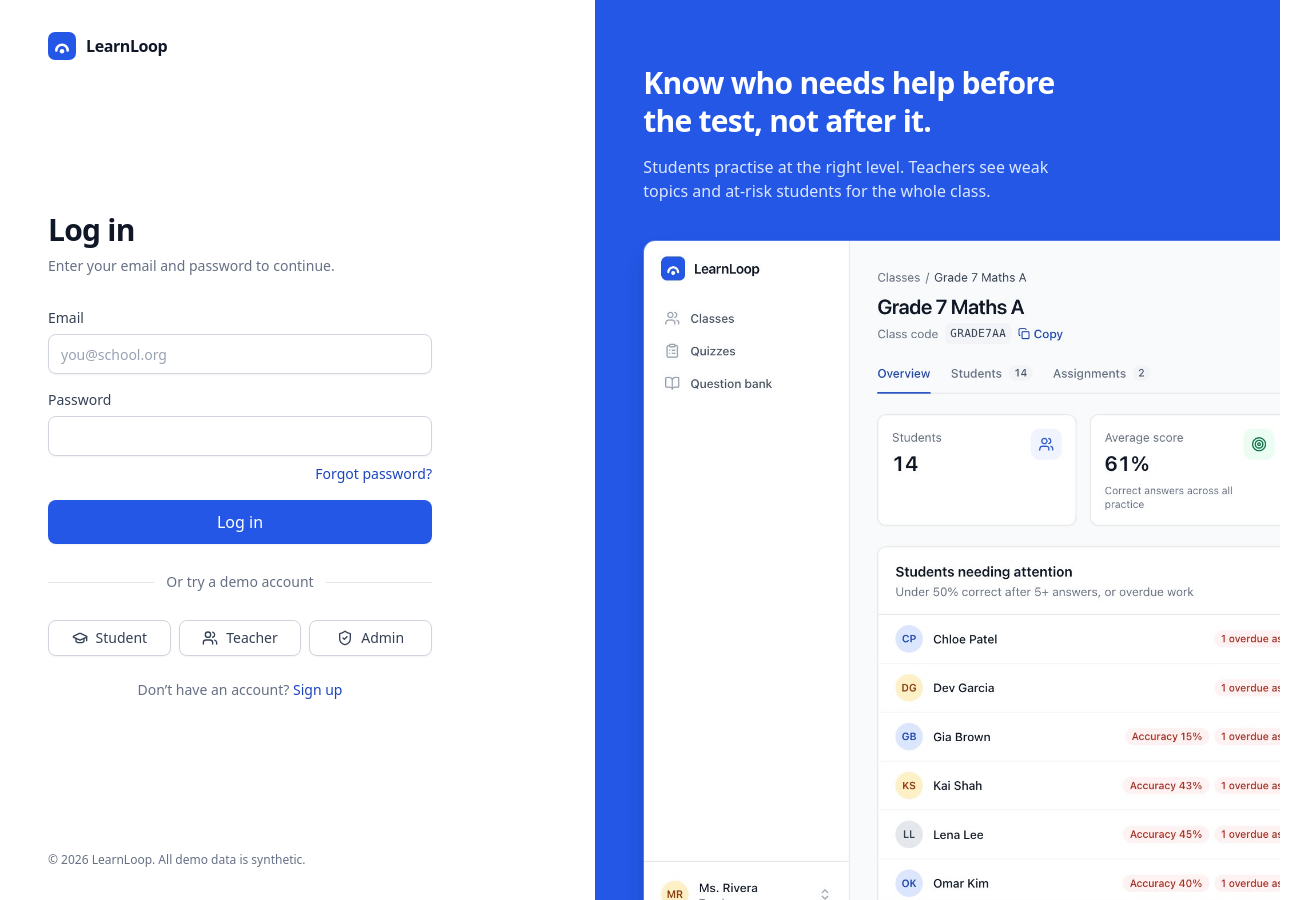
it: LoginPage › shows the server error message on bad credentials
Type "kid@test.dev" into the field labelled "Email" at (240,354), box [48, 334, 432, 374]
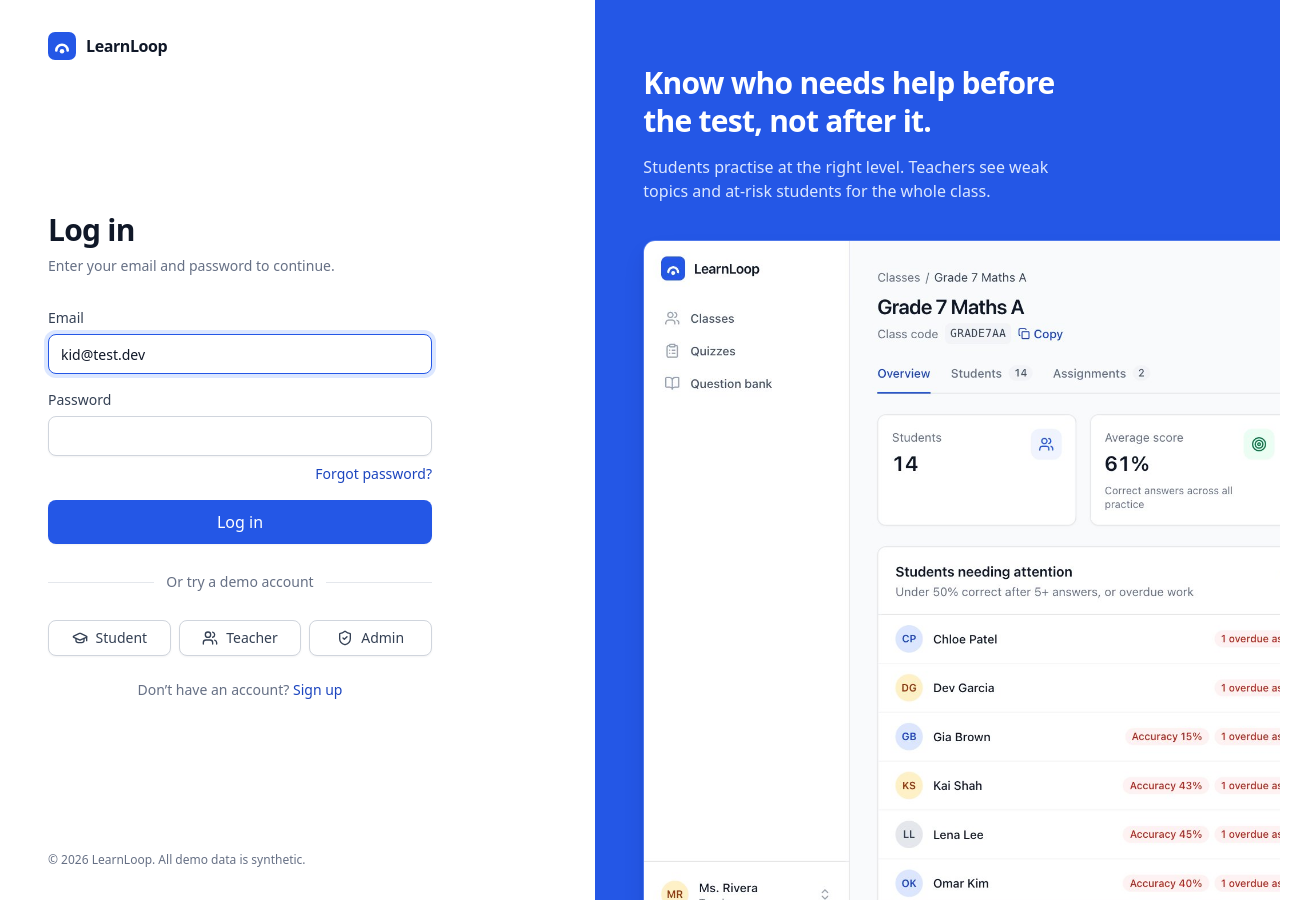
Type "wrong-password" into the password field labelled "Password" at (240,436), box [48, 416, 432, 456]
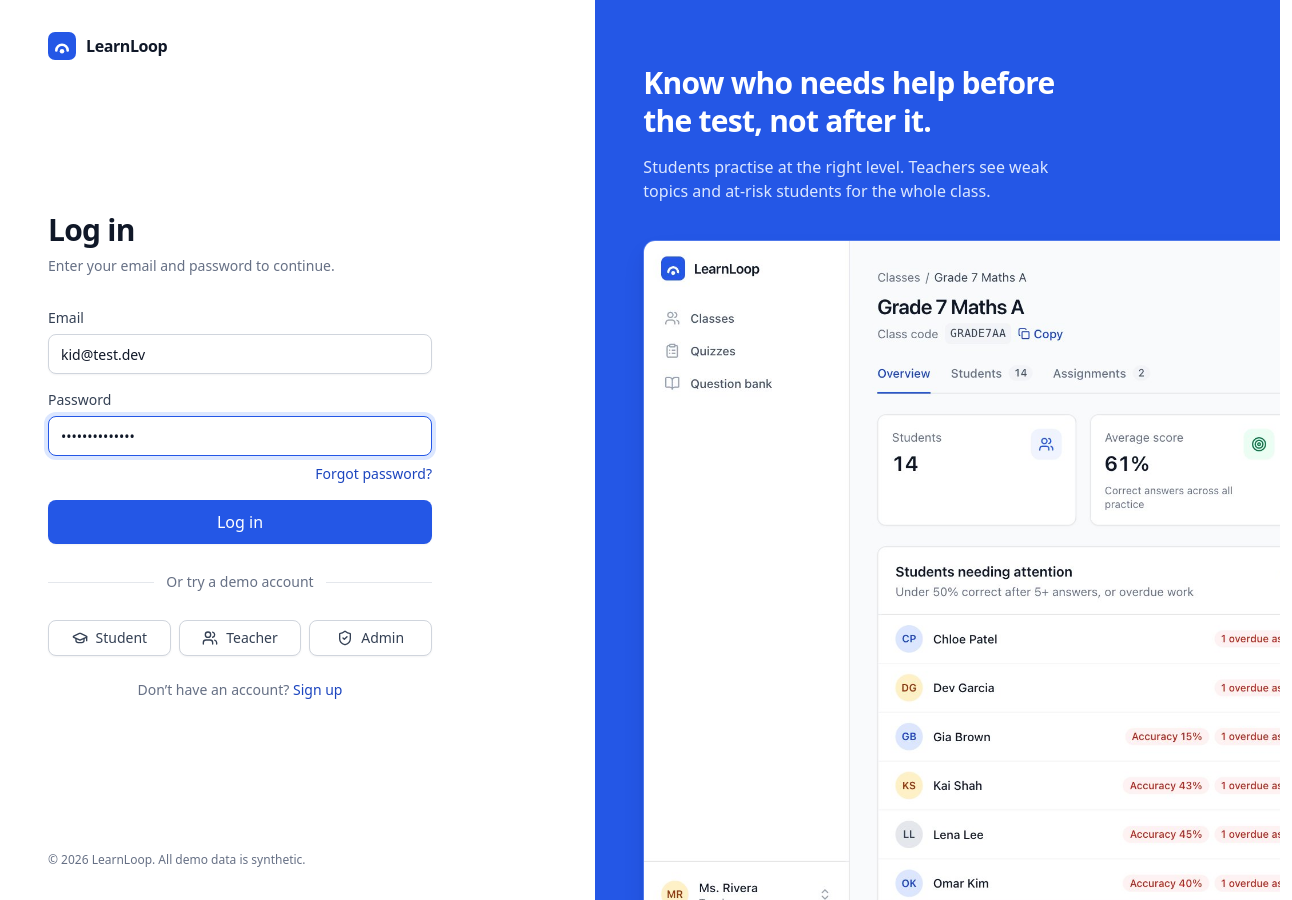
Click the button "Log in" at (240,522), box [48, 500, 432, 544]
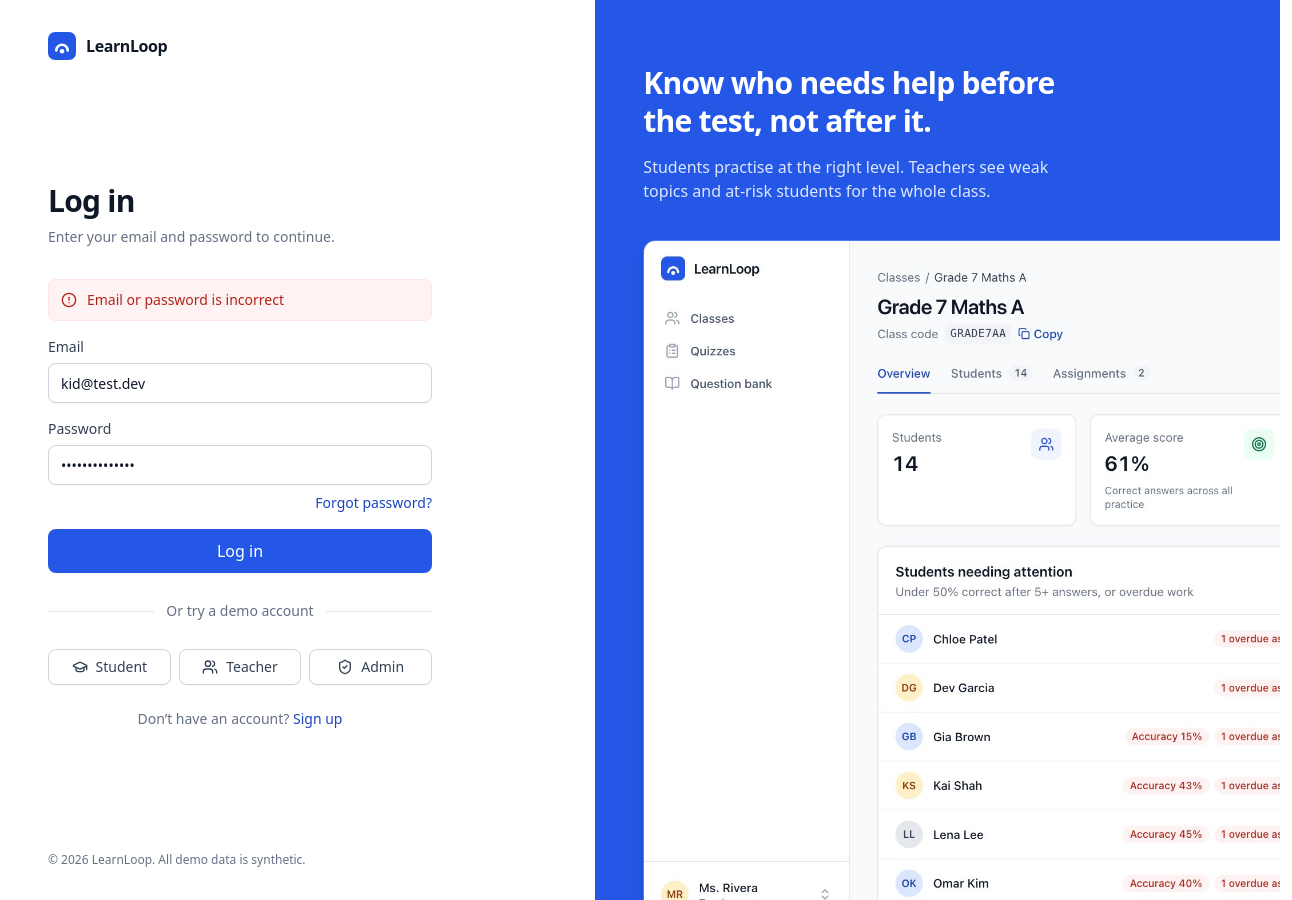
Now the message reads "Email or password is incorrect", box [87, 290, 284, 309]
